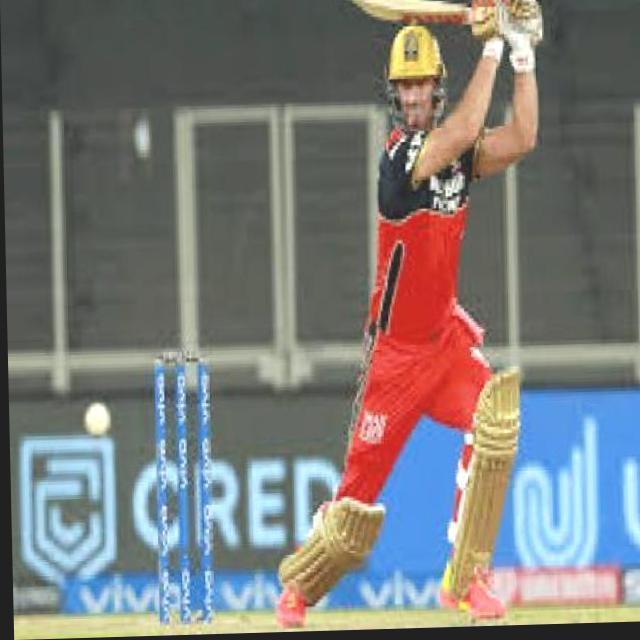-: (70, 379, 137, 452)
